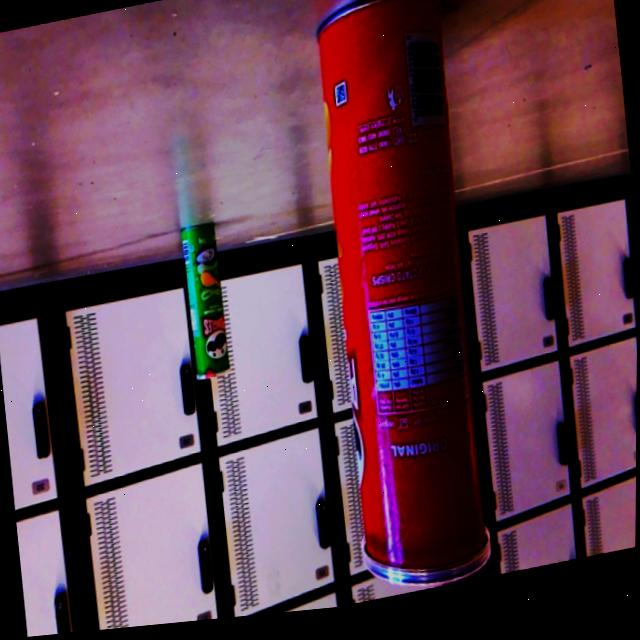greenpringles: (168, 211, 245, 398)
redpringles: (293, 0, 516, 615)
